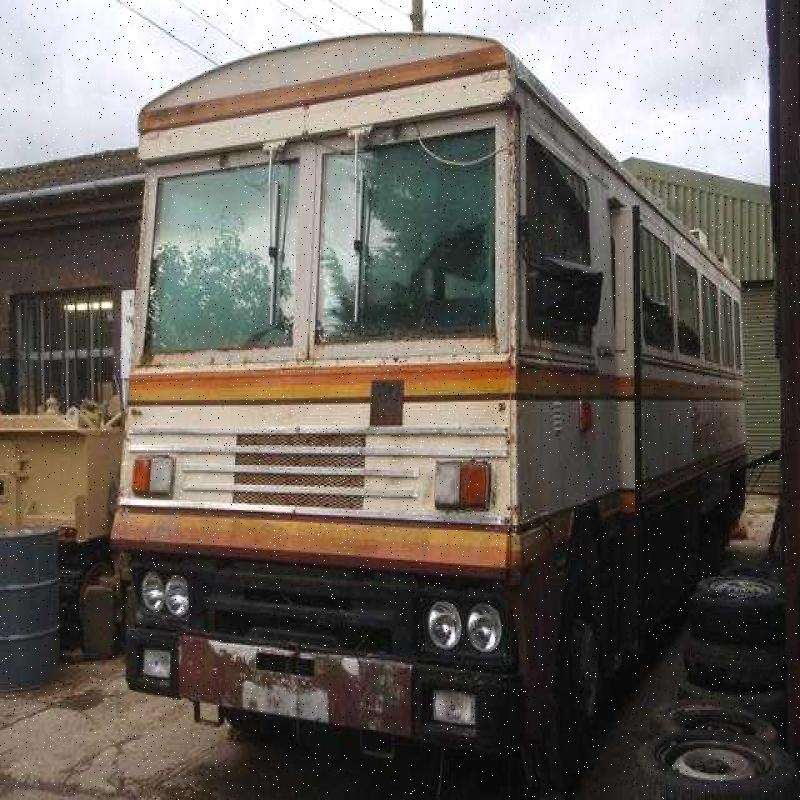bus: (123, 37, 686, 774)
